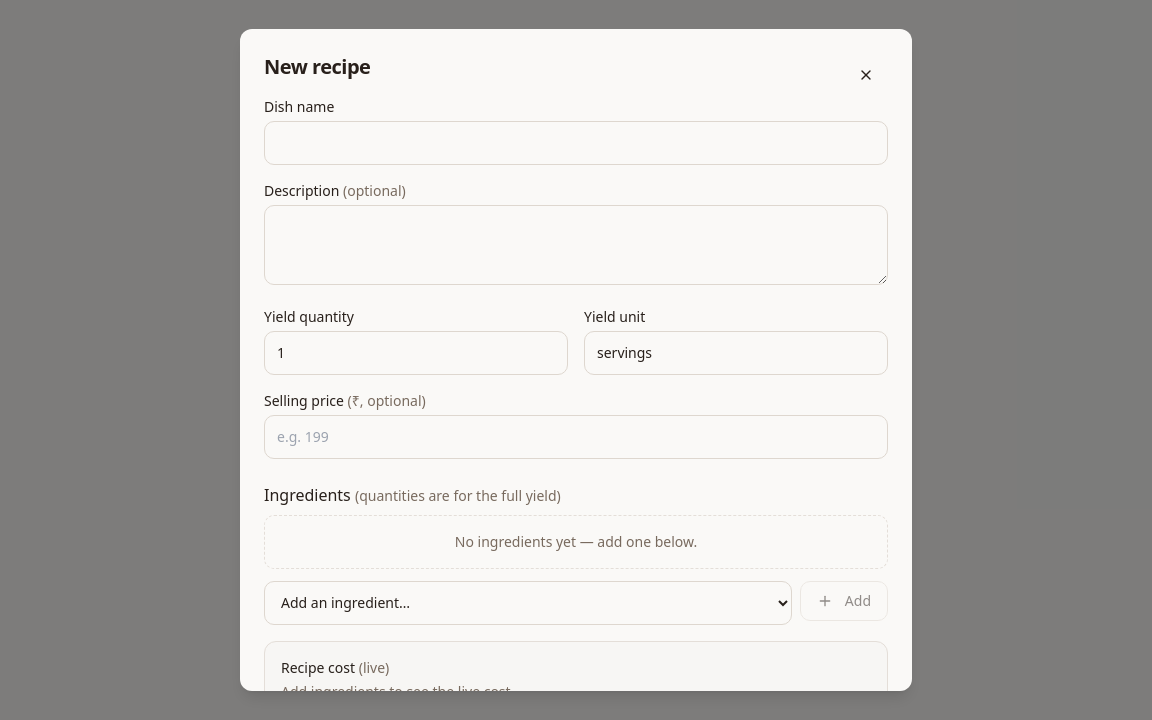
Scenario: RecipeDialog › adds an ingredient line with the item's base unit preselected
The width and height of the screenshot is (1152, 720).
Select "Tomato (kg)" in the dropdown named "Add ingredient" at (528, 603), box [264,581,792,625]
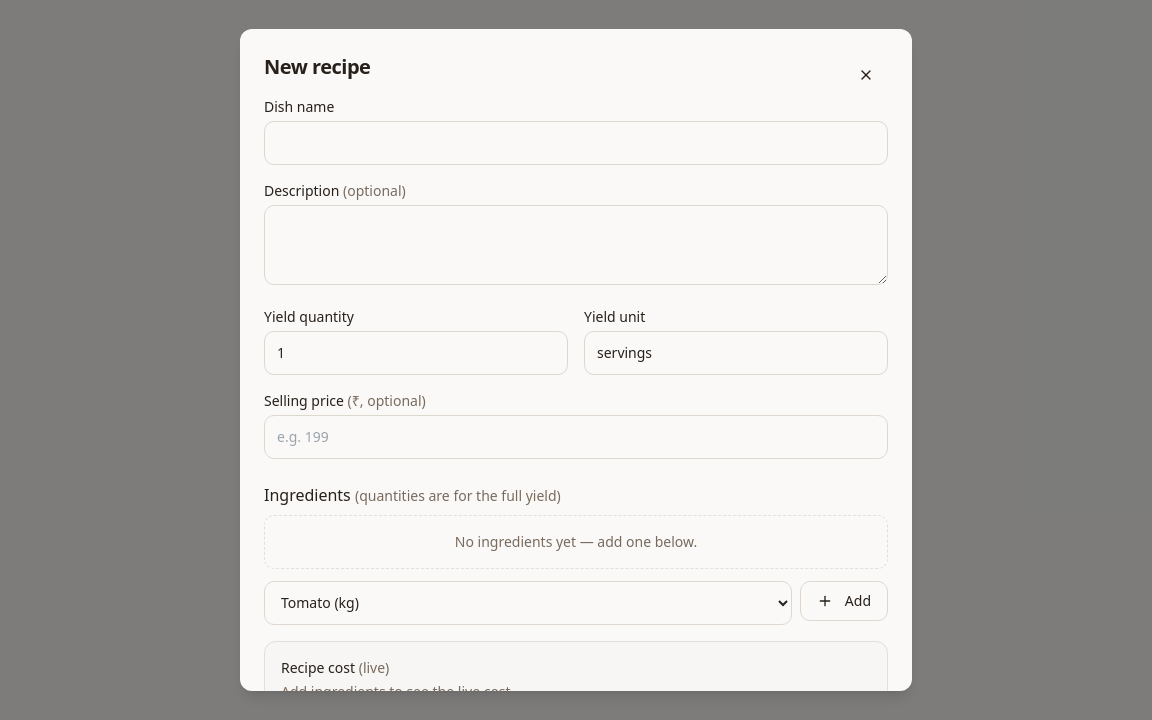
Click the button "Add" at (844, 601), box [800,581,888,621]
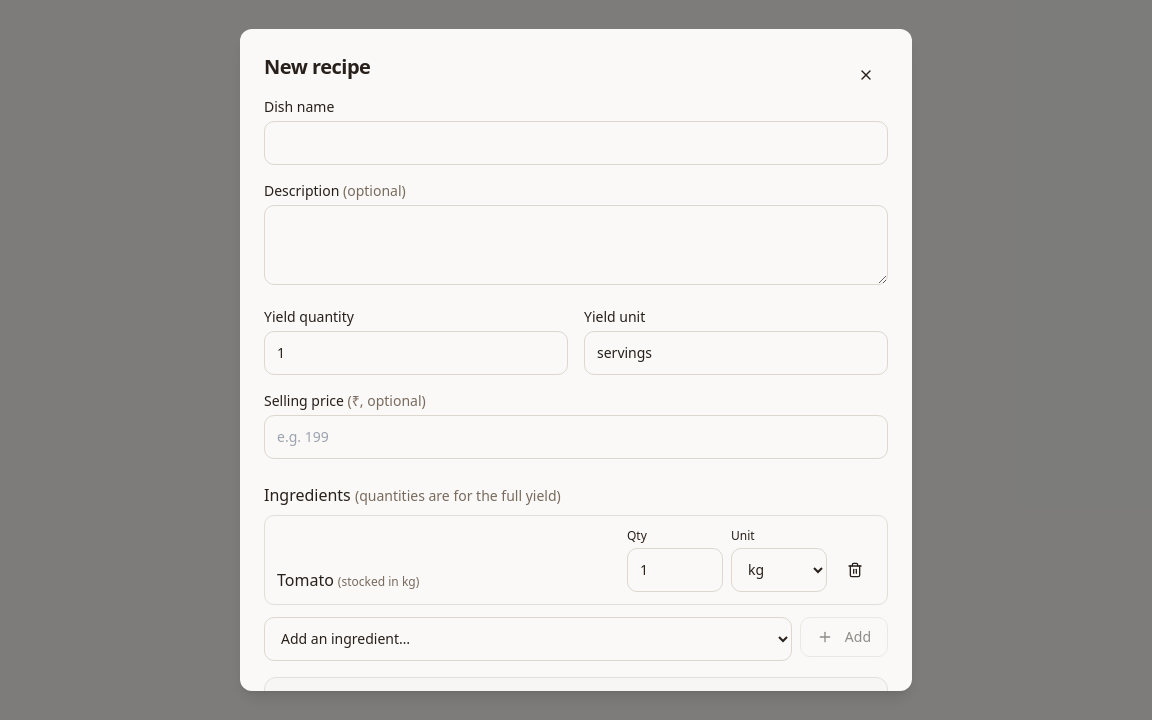
Check: the text "Tomato" is shown, box [277,569,334,591]
